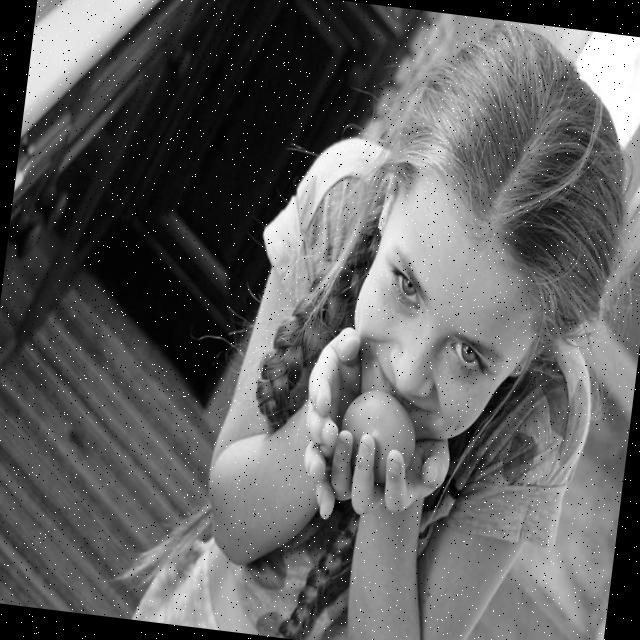Happiness: (337, 164, 558, 454)
